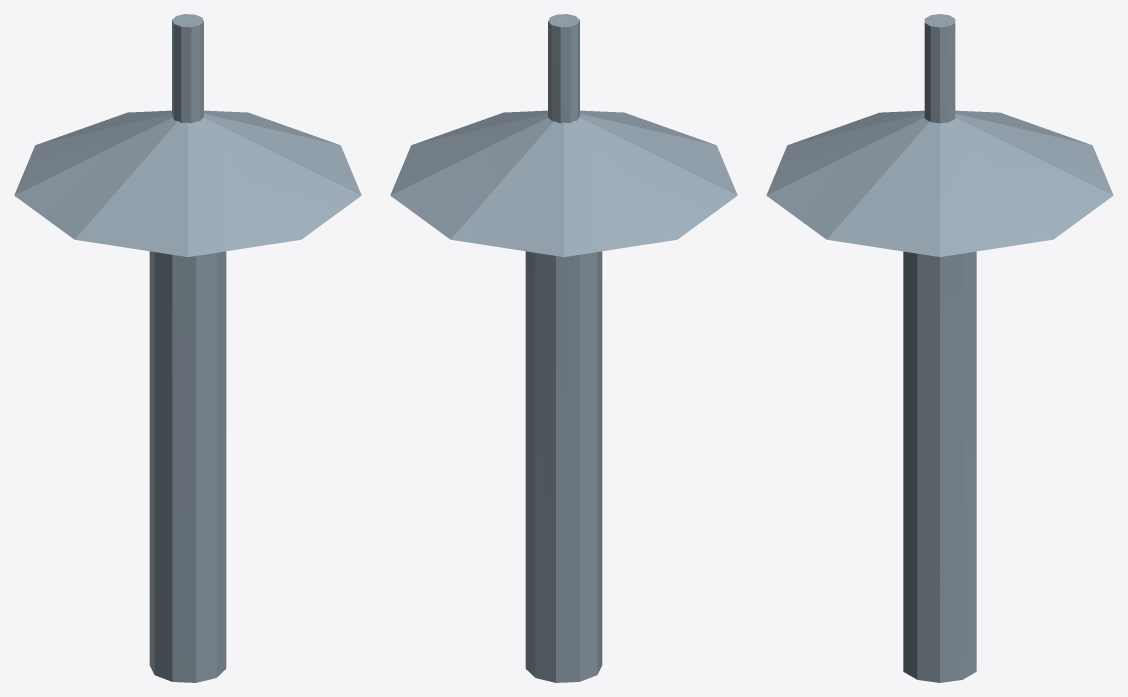
Rendered from satellite_dish-07.glb.
3 views of the same model, side by side, from view 1: azimuth 30°, elevation 25°; view 2: azimuth 150°, elevation 25°; view 3: azimuth 270°, elevation 25° (orthographic).
Visible parts, largest first — view 1: world; view 2: world; view 3: world.
Boxes of the visible parts, bbox=[...] form: world: bbox=[14, 14, 361, 682]; world: bbox=[390, 14, 737, 682]; world: bbox=[766, 14, 1113, 682].
Bounding box in the file's own units: 1.07 × 2.22 × 1.08.
